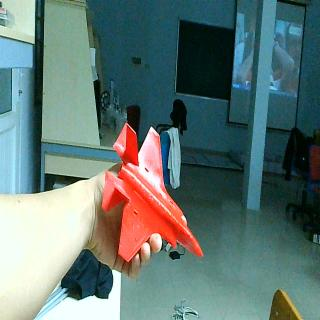Jet: (102, 122, 205, 260)
